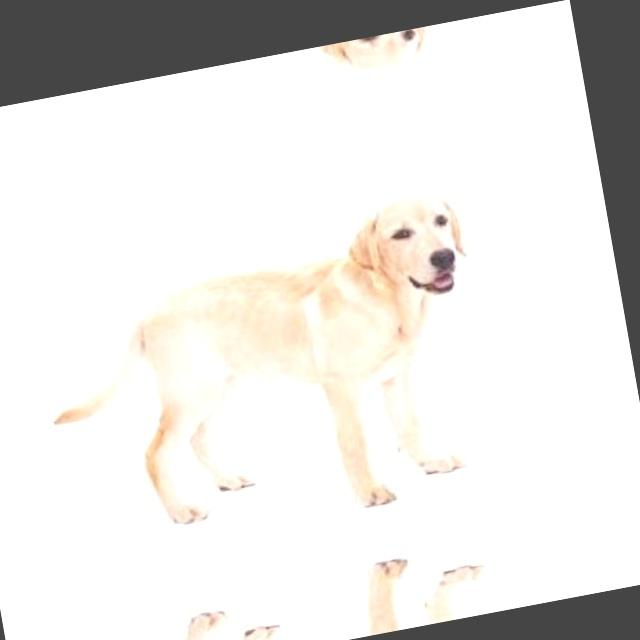dog: (6, 154, 522, 572), (0, 24, 454, 172), (72, 527, 544, 640)
